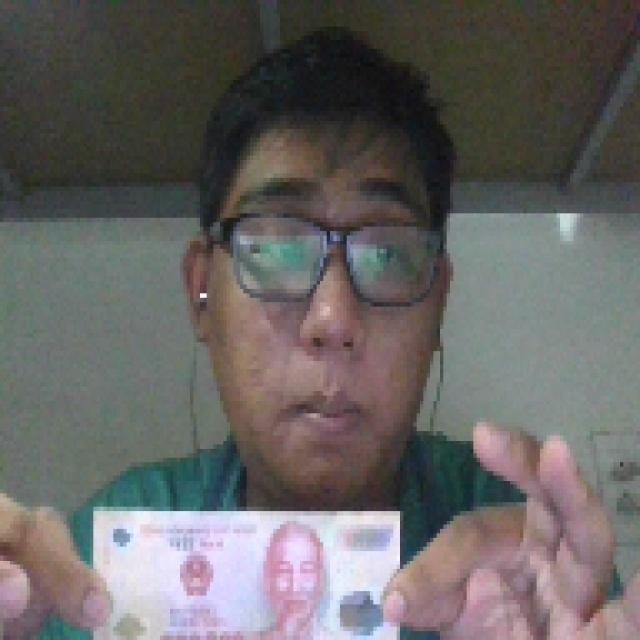200 000 VND: (86, 502, 406, 636)
